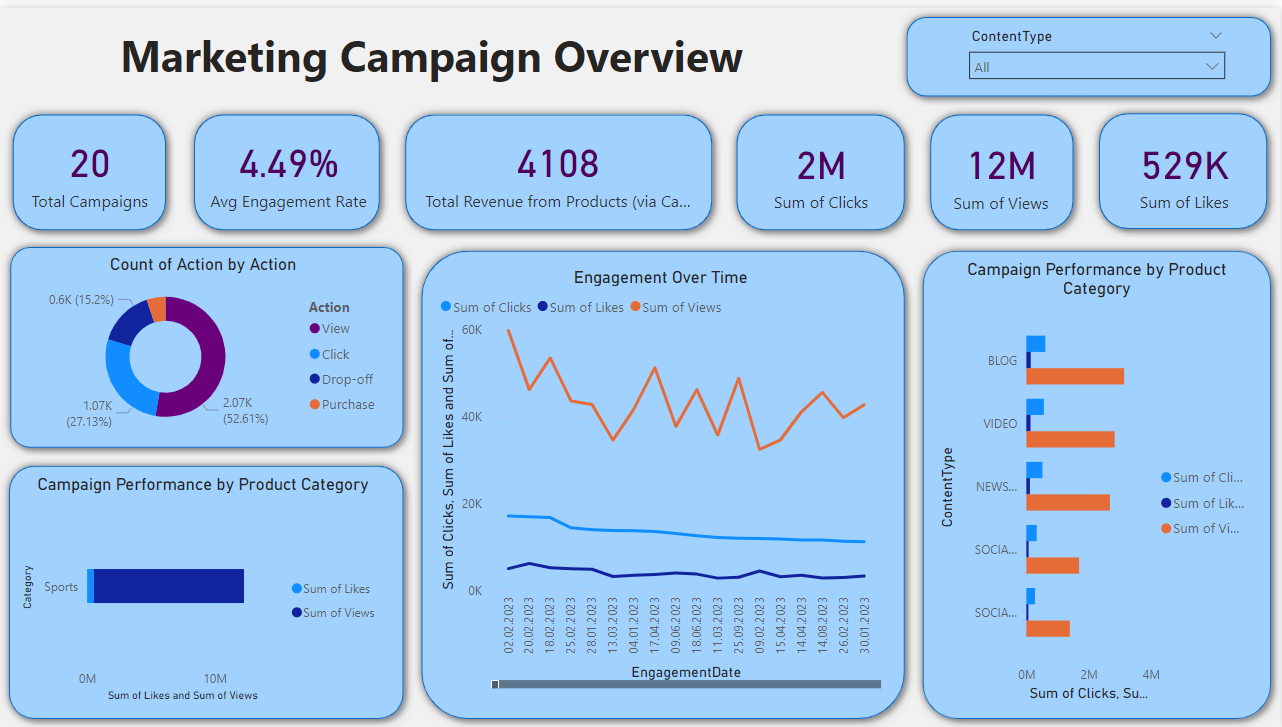

The dashboard page shown, as its layout file describes it:
{"tool":"powerbi","page":{"name":"Campaign Overview","canvas":[1280,720],"ordinal":0},"visuals":[{"type":"textbox","box":[115,12.5,671.2,70],"z":0},{"type":"shape","box":[185,97.2,203.8,133.8],"z":1000},{"type":"shape","box":[396.2,97.2,325,133.8],"z":2000},{"type":"shape","box":[727.5,97.2,186.2,133.8],"z":3000},{"type":"shape","box":[921.2,97.2,161.2,133.8],"z":4000},{"type":"shape","box":[1090,96.2,186.2,133.8],"z":5000},{"type":"shape","box":[3.8,97.2,171.2,133.8],"z":6000},{"type":"card","fields":{"Values":["Count(cleaned_engagement.CampaignID)"]},"box":[26.2,112.5,127.5,101.2],"z":7000},{"type":"card","fields":{"Values":["cleaned_customer_geography.Avg Engagement Rate"]},"box":[205,112.5,167.5,101.2],"z":8000},{"type":"card","fields":{"Values":["Sum(cleaned_product.Price)"]},"box":[413.8,112.5,288.8,101.2],"z":9000},{"type":"card","fields":{"Values":["Sum(cleaned_engagement.Views)"]},"box":[940,116.2,122.5,97.5],"z":10000},{"type":"card","fields":{"Values":["Sum(cleaned_engagement.Clicks)"]},"box":[745,115,152.5,98.8],"z":11000},{"type":"card","fields":{"Values":["Sum(cleaned_engagement.Likes)"]},"box":[1108.8,115,151.2,98.8],"z":12000},{"type":"shape","box":[0,448.8,412.5,271.2],"z":13000},{"type":"shape","box":[1.2,230,411.2,218.8],"z":14000},{"type":"shape","box":[412.5,233.8,501.2,486.2],"z":15000},{"type":"shape","box":[913.8,233.8,366.2,486.2],"z":16000},{"type":"clusteredBarChart","title":"Campaign Performance by Product Category","fields":{"Category":["cleaned_engagement.ContentType"],"Y":["Sum(cleaned_engagement.Clicks)","Sum(cleaned_engagement.Likes)","Sum(cleaned_engagement.Views)"]},"box":[933.8,251.2,326.2,447.5],"z":17000},{"type":"lineChart","title":"Engagement Over Time","fields":{"Category":["cleaned_engagement.EngagementDate"],"Y":["Sum(cleaned_engagement.Clicks)","Sum(cleaned_engagement.Likes)","Sum(cleaned_engagement.Views)"]},"box":[435,258.8,451.2,426.2],"z":18000},{"type":"donutChart","fields":{"Category":["cleaned_customer_journey.Action"],"Y":["CountNonNull(cleaned_customer_journey.Action)"]},"box":[17.5,246.2,371.2,186.2],"z":19000},{"type":"barChart","title":"Campaign Performance by Product Category","fields":{"Category":["cleaned_product.Category"],"Y":["Sum(cleaned_engagement.Likes)","Sum(cleaned_engagement.Views)"]},"box":[17.5,466.2,371.2,232.5],"z":20000},{"type":"shape","box":[897.5,0,382.5,97.5],"z":21000},{"type":"slicer","fields":{"Values":["cleaned_engagement.ContentType"]},"box":[958.8,15,276.2,63.8],"z":22000}]}

Visuals, with their boxes in screenshot pixels (x1, y1, x2, y2), scaled from the page's 1280x720 canvas onto the 1282x727 screenshot:
textbox: 115,13,787,83
shape: 185,98,389,233
shape: 397,98,722,233
shape: 729,98,915,233
shape: 923,98,1084,233
shape: 1092,97,1278,232
shape: 4,98,175,233
card - Count(cleaned_engagement.CampaignID): 26,114,154,216
card - cleaned_customer_geography.Avg Engagement Rate: 205,114,373,216
card - Sum(cleaned_product.Price): 414,114,704,216
card - Sum(cleaned_engagement.Views): 941,117,1064,216
card - Sum(cleaned_engagement.Clicks): 746,116,899,216
card - Sum(cleaned_engagement.Likes): 1111,116,1262,216
shape: 0,453,413,726
shape: 1,232,413,453
shape: 413,236,915,726
shape: 915,236,1281,726
"Campaign Performance by Product Category" clusteredBarChart: 935,254,1262,705
"Engagement Over Time" lineChart: 436,261,888,692
donutChart - cleaned_customer_journey.Action x CountNonNull(cleaned_customer_journey.Action): 18,249,389,437
"Campaign Performance by Product Category" barChart: 18,471,389,705
shape: 899,0,1281,98
slicer - cleaned_engagement.ContentType: 960,15,1237,80
